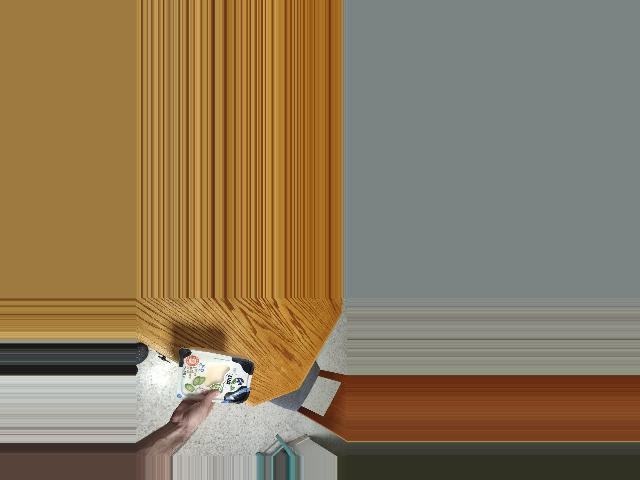cheese: (182, 357, 252, 401)
